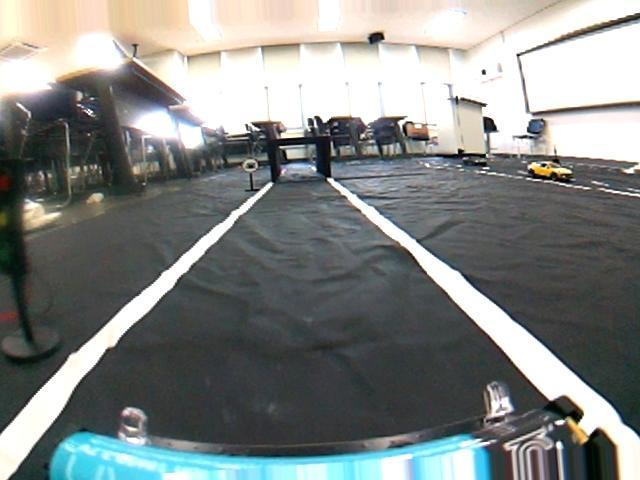green_light: (0, 158, 33, 288)
straight: (40, 197, 640, 479)
